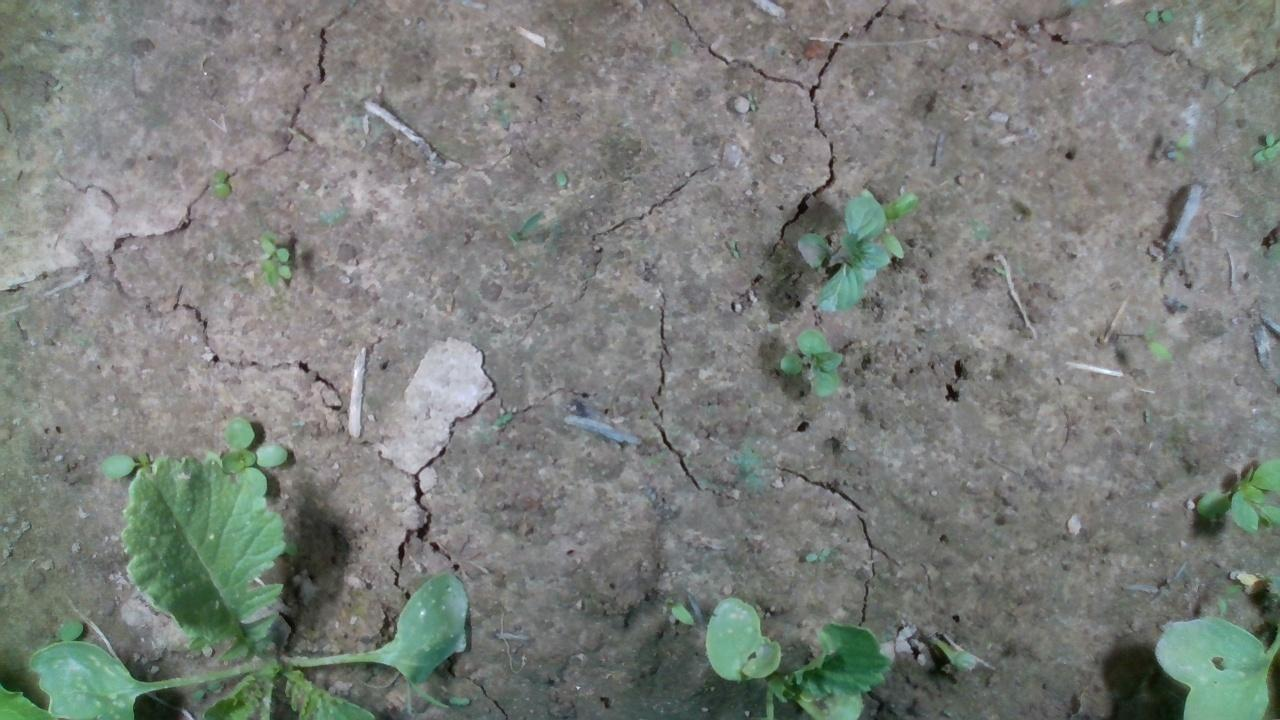weed: (776, 324, 846, 400), (207, 165, 232, 199)
